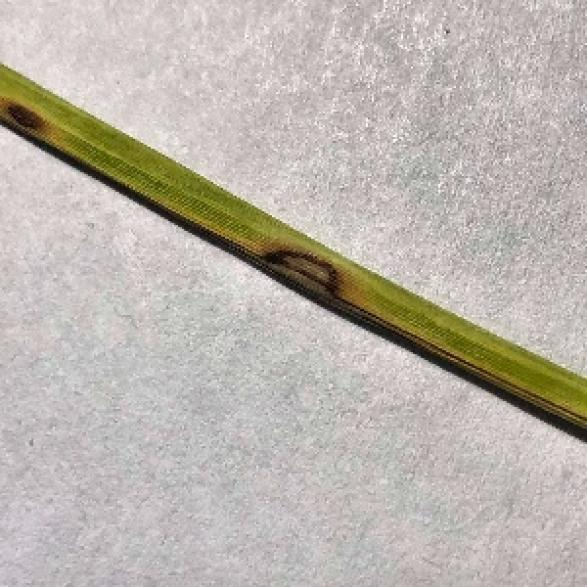Leaf_smut: (254, 231, 358, 305)
